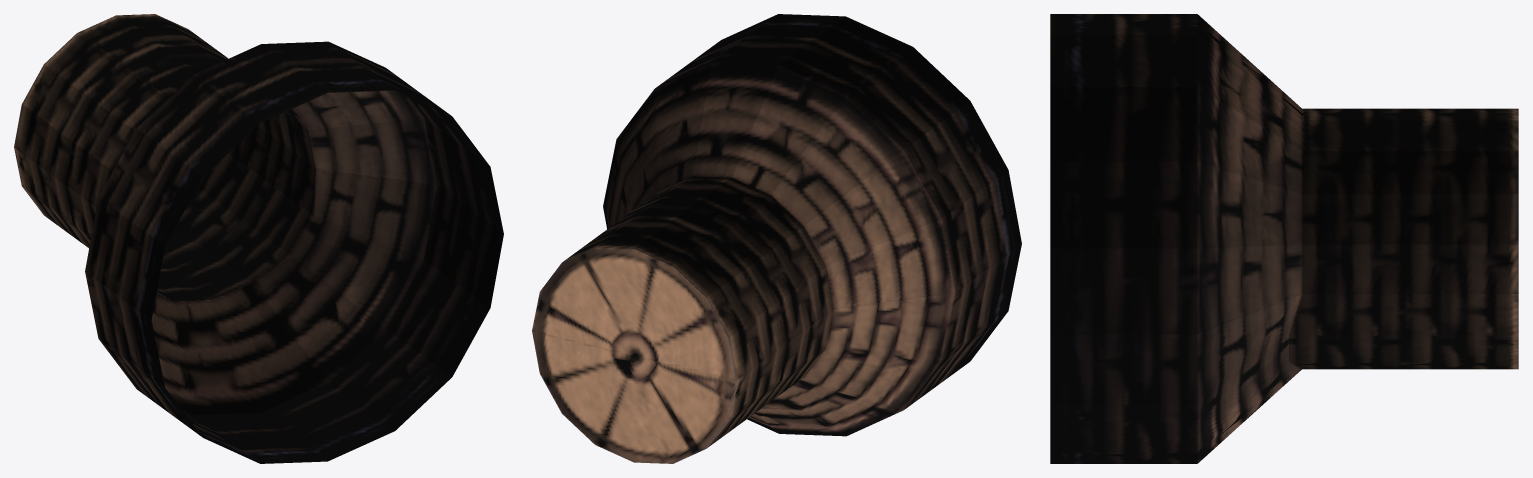
The model's file is ex_2Column0.obj.
3 renders of one model, left to right at view 1: azimuth 30°, elevation 25°; view 2: azimuth 150°, elevation 25°; view 3: azimuth 270°, elevation 25°, orthographic. The views are drawn at different scales.
Visible parts, largest first — view 1: ex_Column0.001_Cylind; view 2: ex_Column0.001_Cylind; view 3: ex_Column0.001_Cylind.
Boxes of the visible parts, box(x1,y1,x2,y2) form: ex_Column0.001_Cylind: box(14, 14, 503, 463); ex_Column0.001_Cylind: box(532, 14, 1021, 463); ex_Column0.001_Cylind: box(1050, 14, 1518, 463).
Size of the model in its own units: 136 by 136 by 142.
